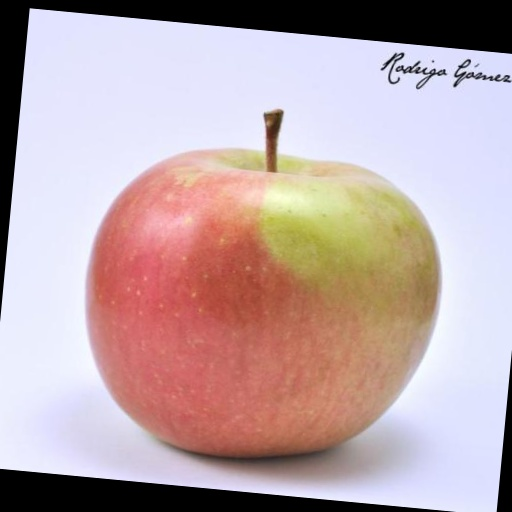fruit: (86, 113, 440, 457)
